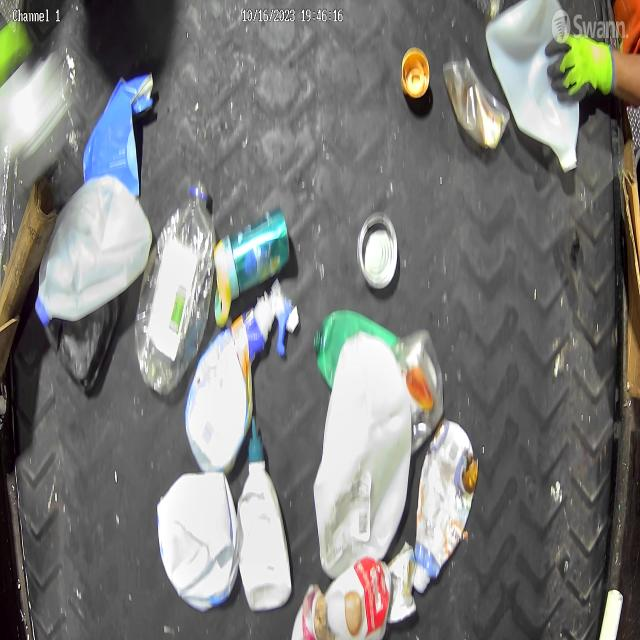can: (356, 211, 399, 291)
milk_jug: (312, 332, 414, 580), (33, 174, 154, 330), (486, 0, 580, 174), (156, 472, 241, 614)
plastic_bottle: (132, 180, 217, 398)
